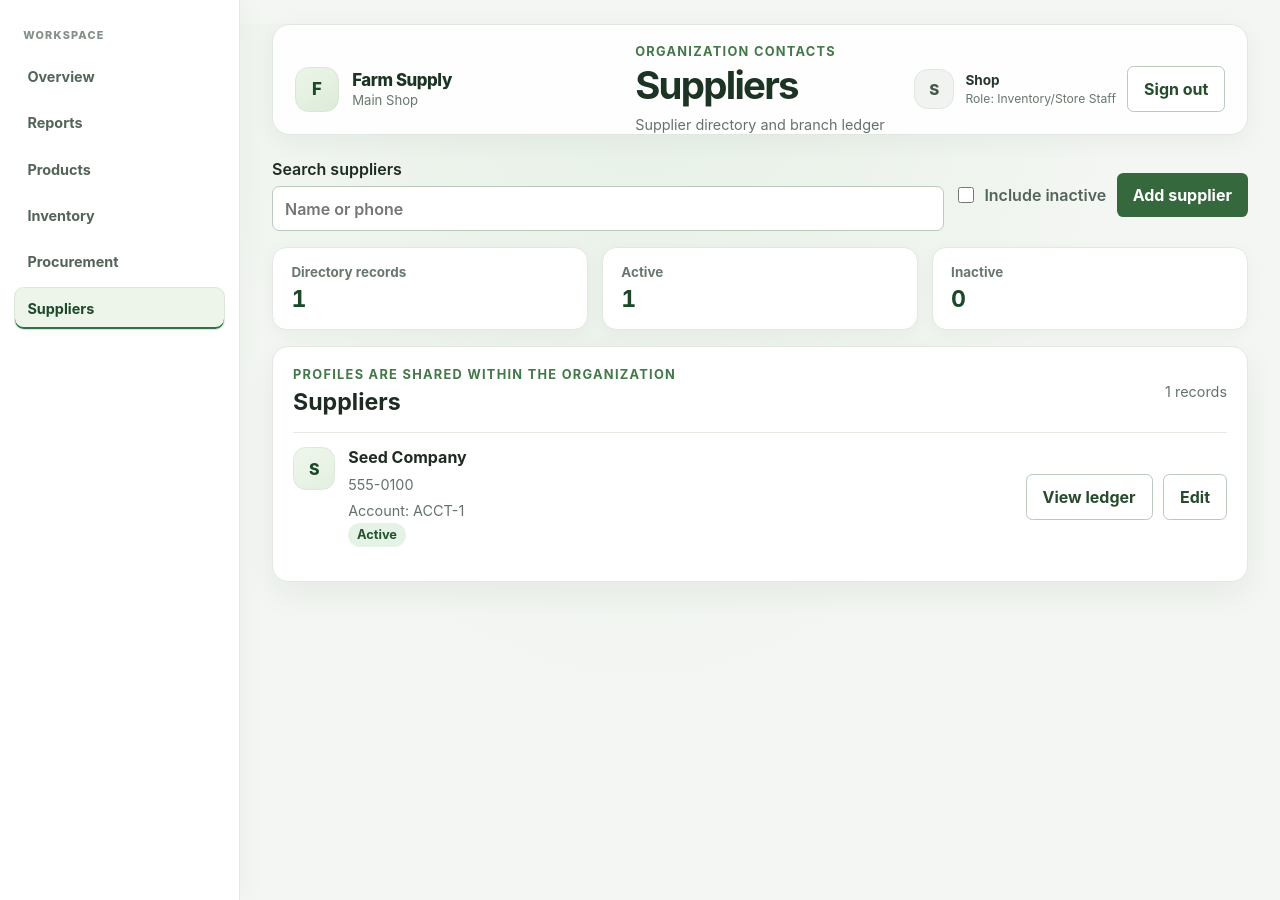
it: customer and supplier workspaces › uses supplier-scoped branches and keeps supplier payable ledger read-only
The width and height of the screenshot is (1280, 900).
Click the button "View ledger": (1089, 497) [1026,474,1153,520]
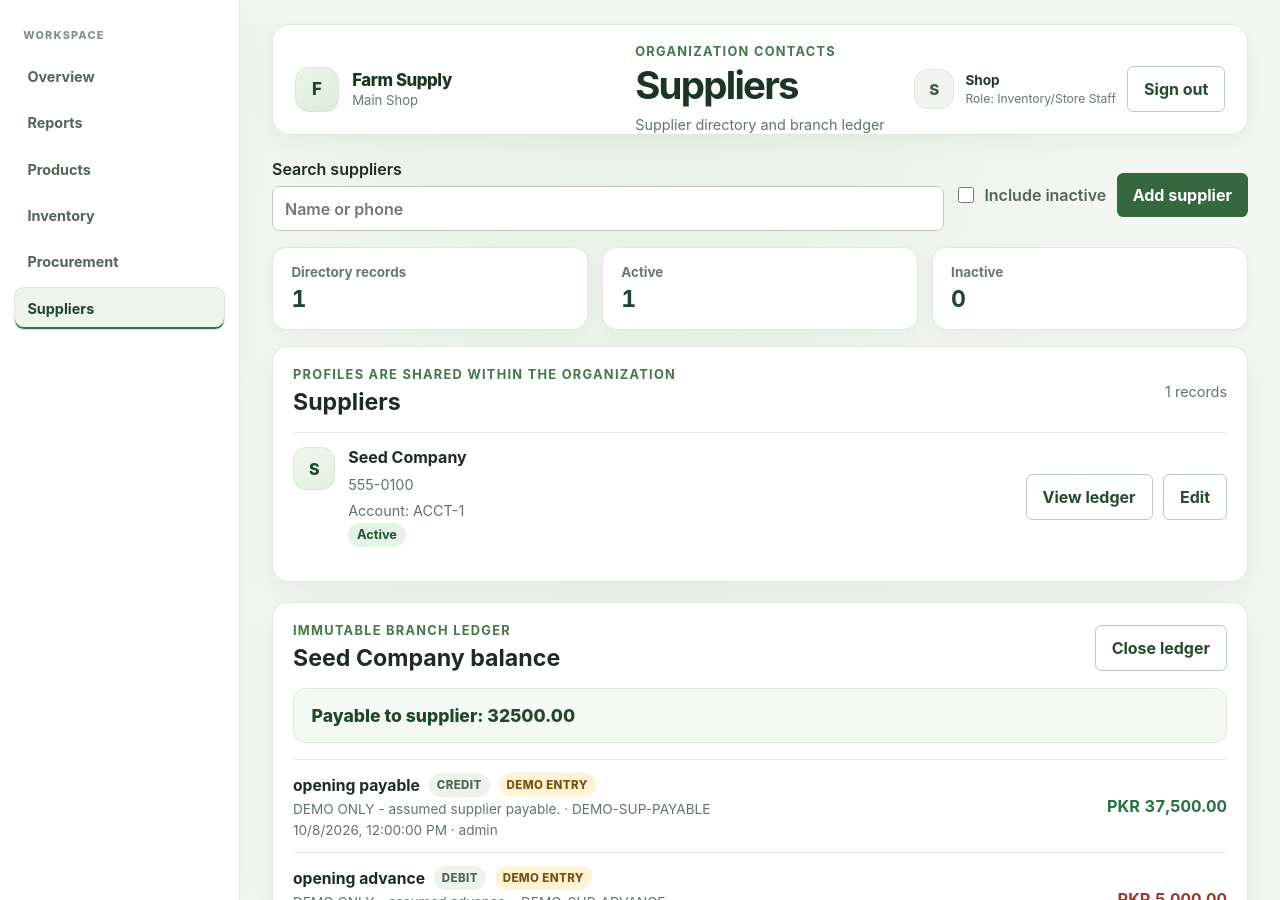
Result: the text "Payable to supplier: 32500.00" is shown at [293,688,1227,743]
Result: the text "PKR 37,500.00" is shown at [1107,796,1227,816]
Result: the text "Debit" is shown at [434,866,486,890]
